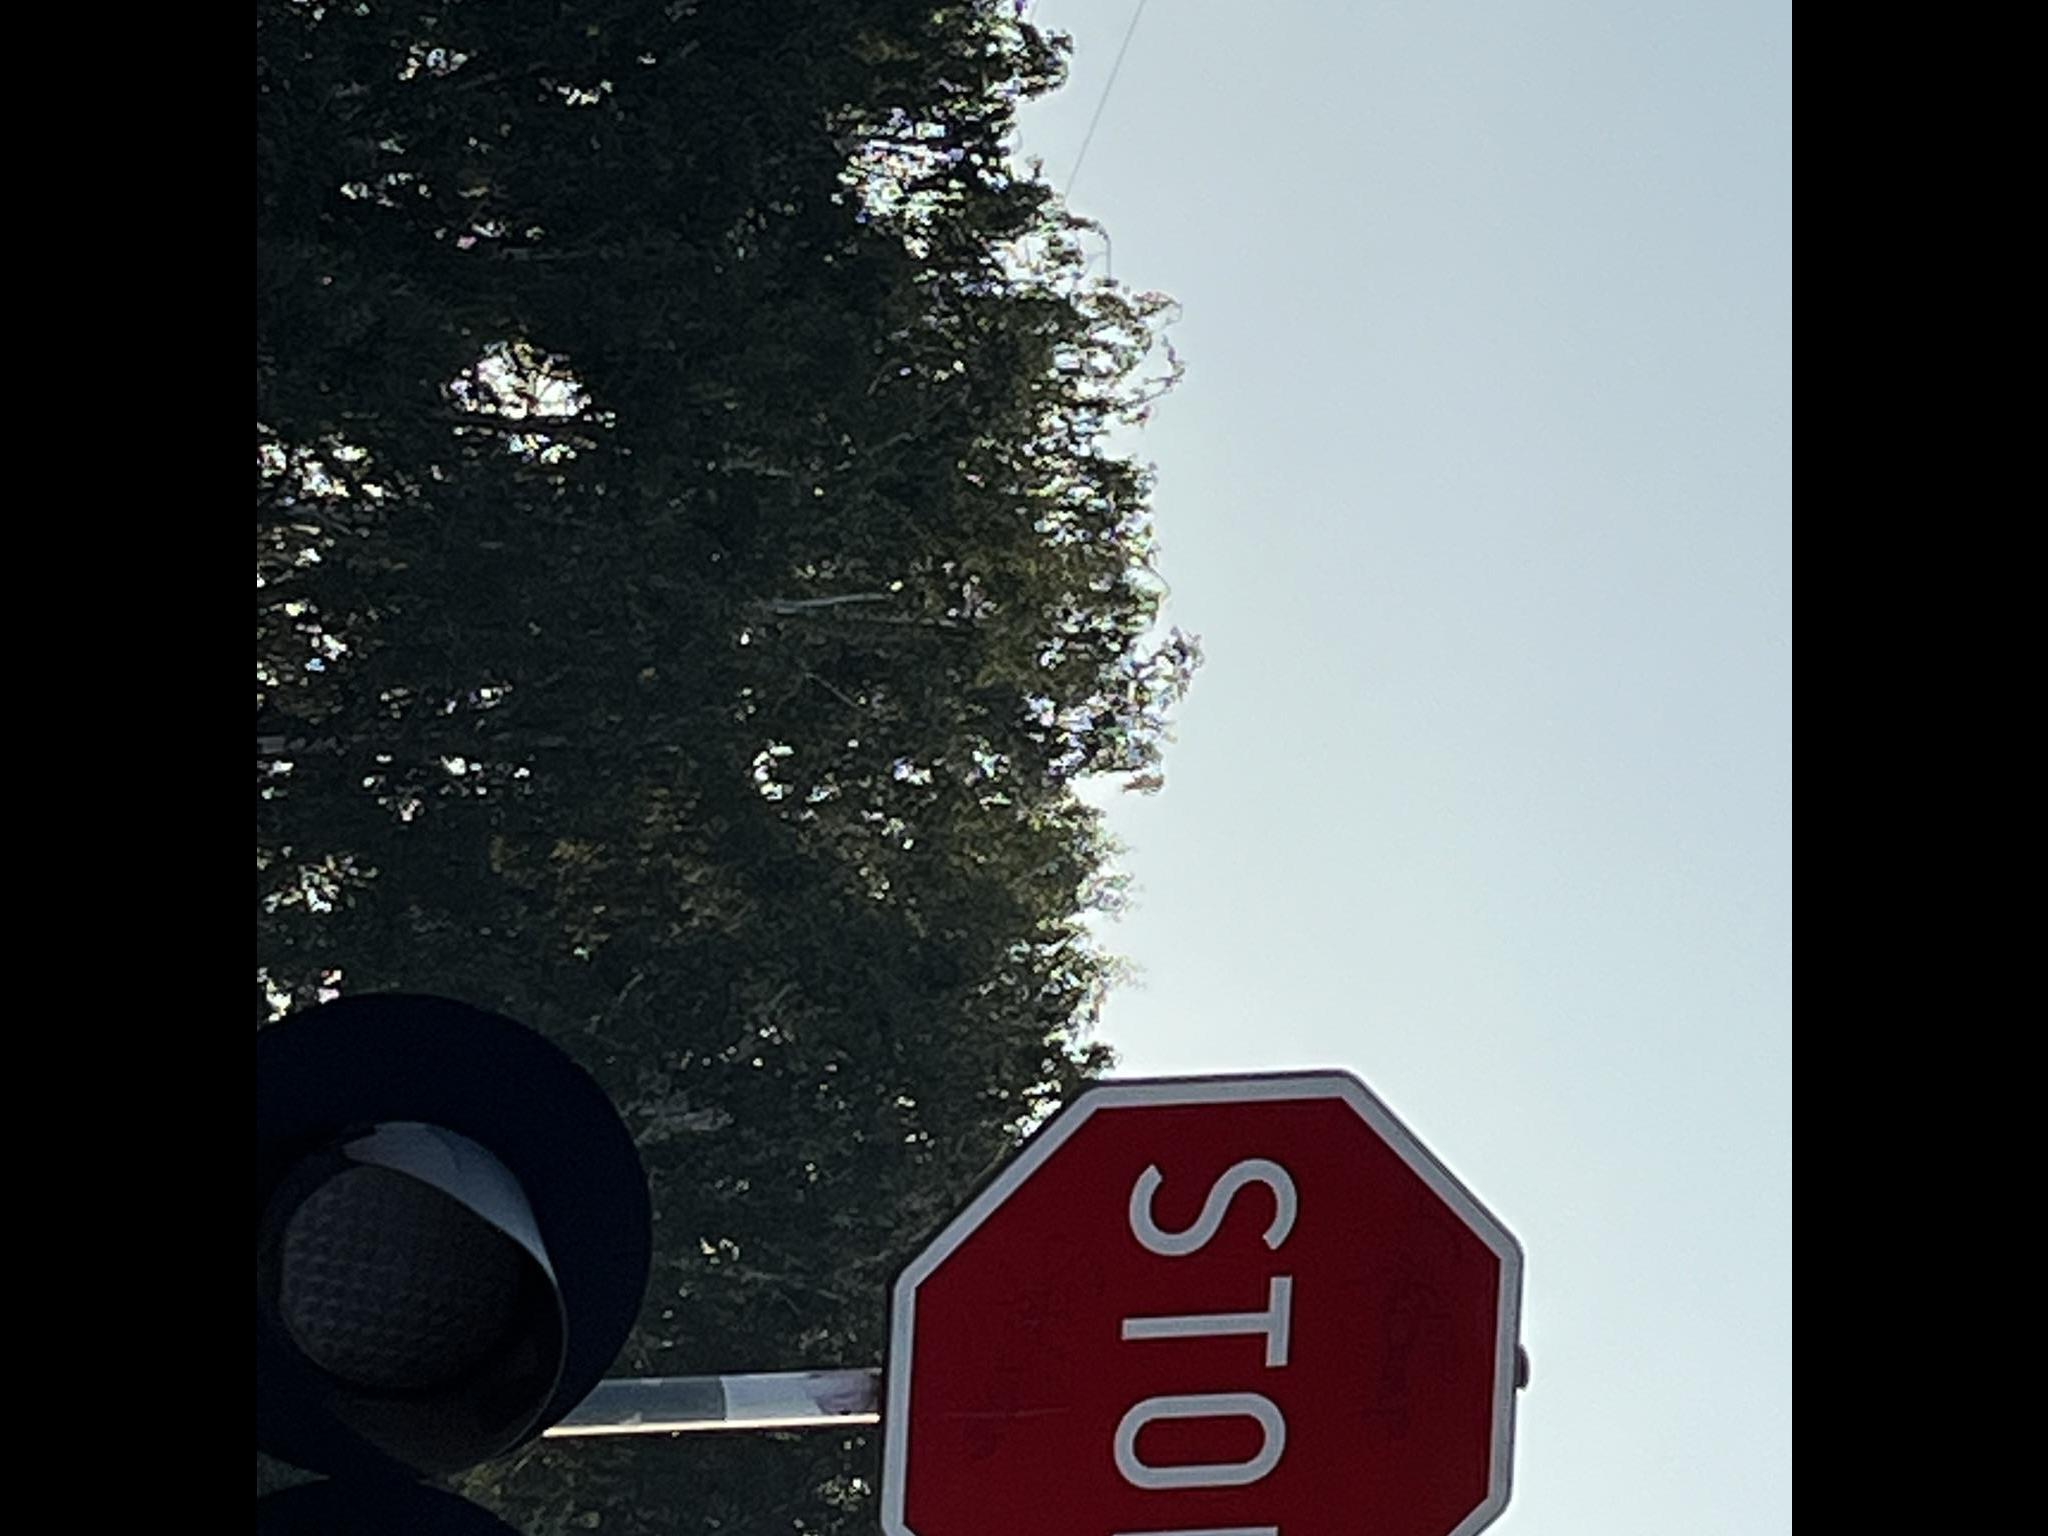prohibitory: (872, 1071, 1530, 1536)
